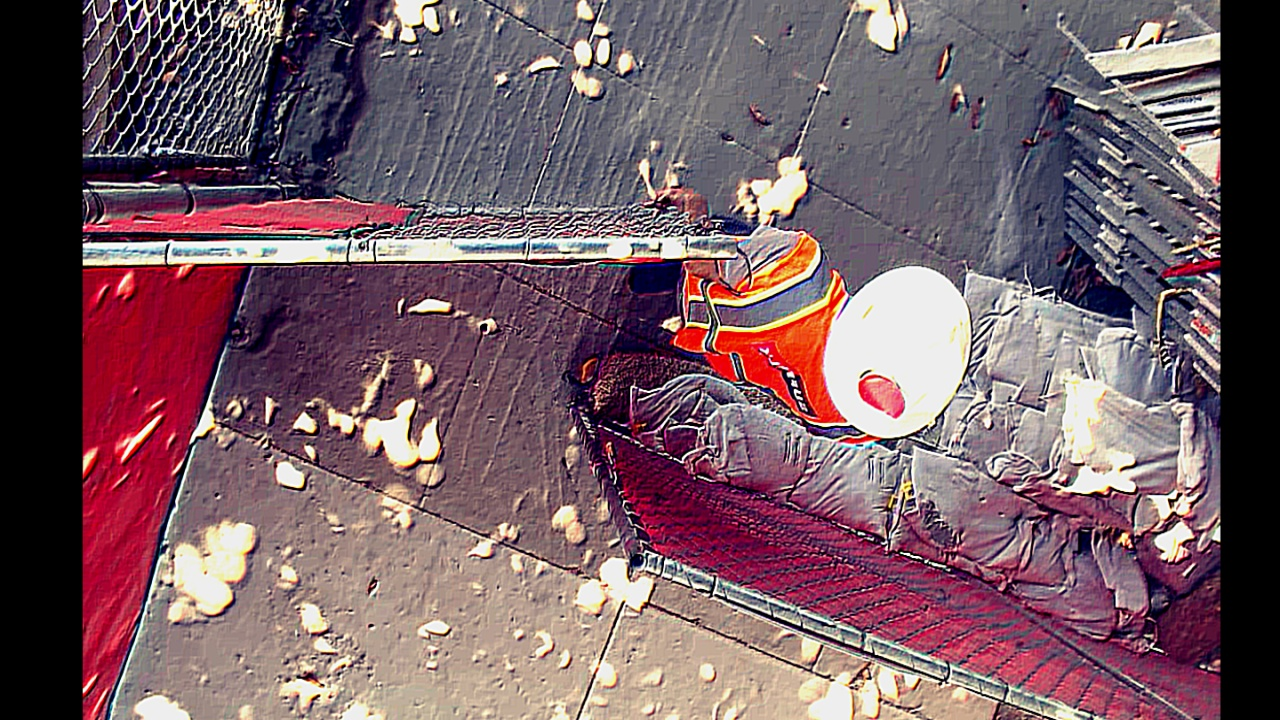person: (760, 327, 1003, 608)
safetyvest: (786, 397, 1003, 630)
